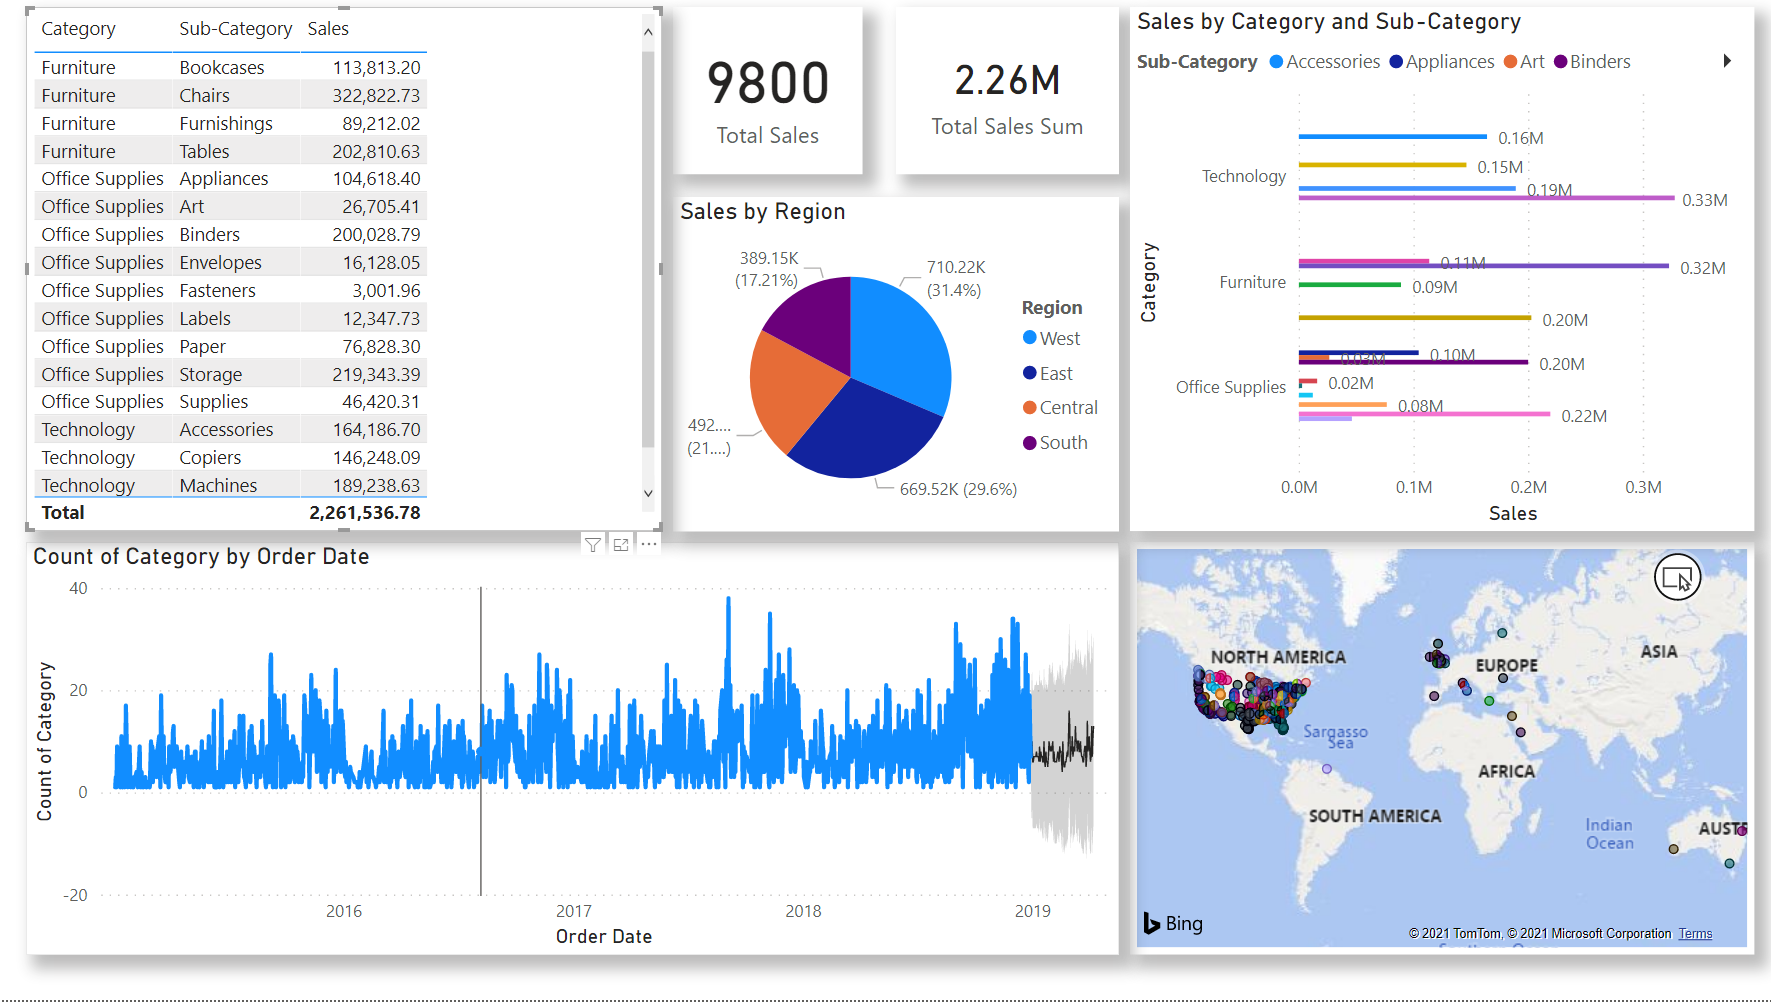

This screenshot's page, from the dashboard's own definition file:
{"tool":"powerbi","page":{"name":"Page 1","canvas":[1280,720],"ordinal":0},"visuals":[{"type":"tableEx","fields":{"Values":["superstore.Category","superstore.Sub-Category","superstore.Sales"]},"box":[24,8,456,376],"z":0},{"type":"map","fields":{"Category":["superstore.City"],"Series":["superstore.State"]},"box":[816,392,448,296],"z":1000},{"type":"lineChart","fields":{"Category":["superstore.Order Date"],"Y":["CountNonNull(superstore.Category)"]},"box":[24,392,784,296],"z":2000},{"type":"card","fields":{"Values":["superstore.Total Sales"]},"box":[488,8,136,120],"z":3000},{"type":"card","fields":{"Values":["superstore.Total Sales Sum"]},"box":[648,8,160,120],"z":4000},{"type":"pieChart","fields":{"Category":["superstore.Region"],"Y":["Sum(superstore.Sales)"]},"box":[488,144,320,240],"z":5000},{"type":"clusteredBarChart","fields":{"Category":["superstore.Category"],"Y":["Sum(superstore.Sales)"],"Series":["superstore.Sub-Category"]},"box":[816,8,448,376],"z":6000}]}

Visuals, with their boxes in screenshot pixels (x1, y1, x2, y2), scaled from the page's 1280x720 canvas onto the 1771x1006 screenshot:
tableEx - superstore.Category x superstore.Sub-Category: Rect(33, 11, 664, 537)
map - superstore.City x superstore.State: Rect(1129, 548, 1749, 961)
lineChart - superstore.Order Date x CountNonNull(superstore.Category): Rect(33, 548, 1118, 961)
card - superstore.Total Sales: Rect(675, 11, 863, 179)
card - superstore.Total Sales Sum: Rect(897, 11, 1118, 179)
pieChart - superstore.Region x Sum(superstore.Sales): Rect(675, 201, 1118, 537)
clusteredBarChart - superstore.Category x Sum(superstore.Sales): Rect(1129, 11, 1749, 537)
